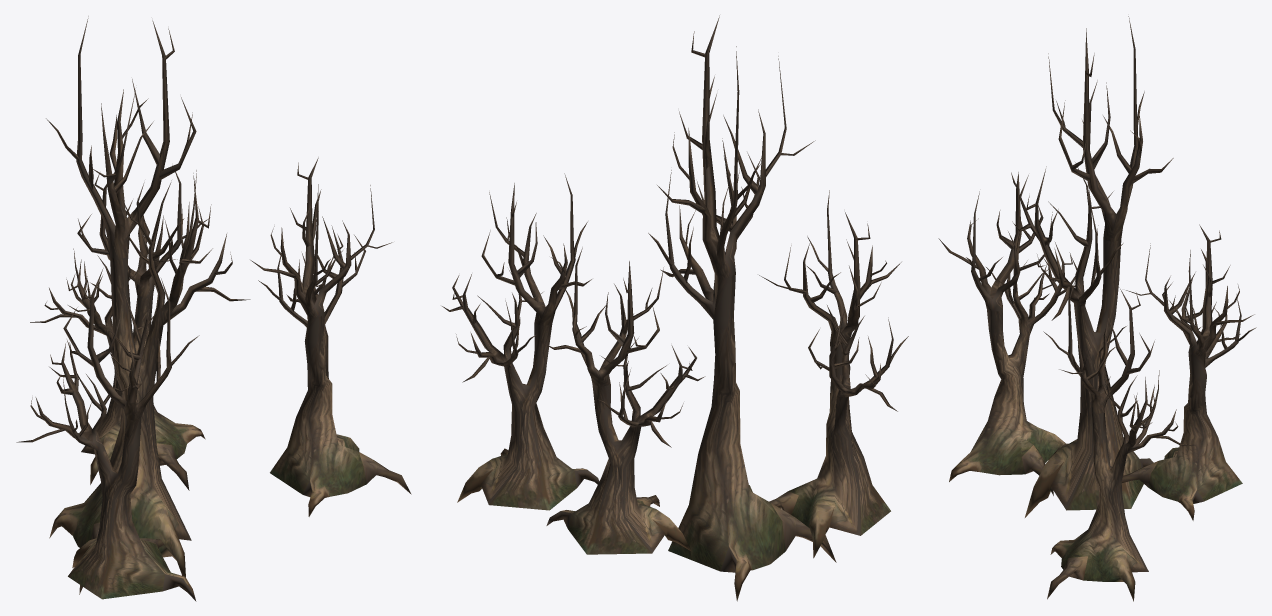
File: plants_tall_tree_trunks210.fbx
3 views of the same model, side by side, from view 1: azimuth 30°, elevation 25°; view 2: azimuth 150°, elevation 25°; view 3: azimuth 270°, elevation 25° (orthographic). The views are drawn at different scales.
Visible parts, largest first — view 1: Material_#238683193/fancy_tree; view 2: Material_#238683193/fancy_tree; view 3: Material_#238683193/fancy_tree.
Part boxes in pixels (x1,y1,x2,y2): Material_#238683193/fancy_tree: [16, 16, 411, 601]; Material_#238683193/fancy_tree: [442, 15, 908, 601]; Material_#238683193/fancy_tree: [938, 16, 1256, 601].
Size of the model in its own units: 11.41 by 14.94 by 8.81.
